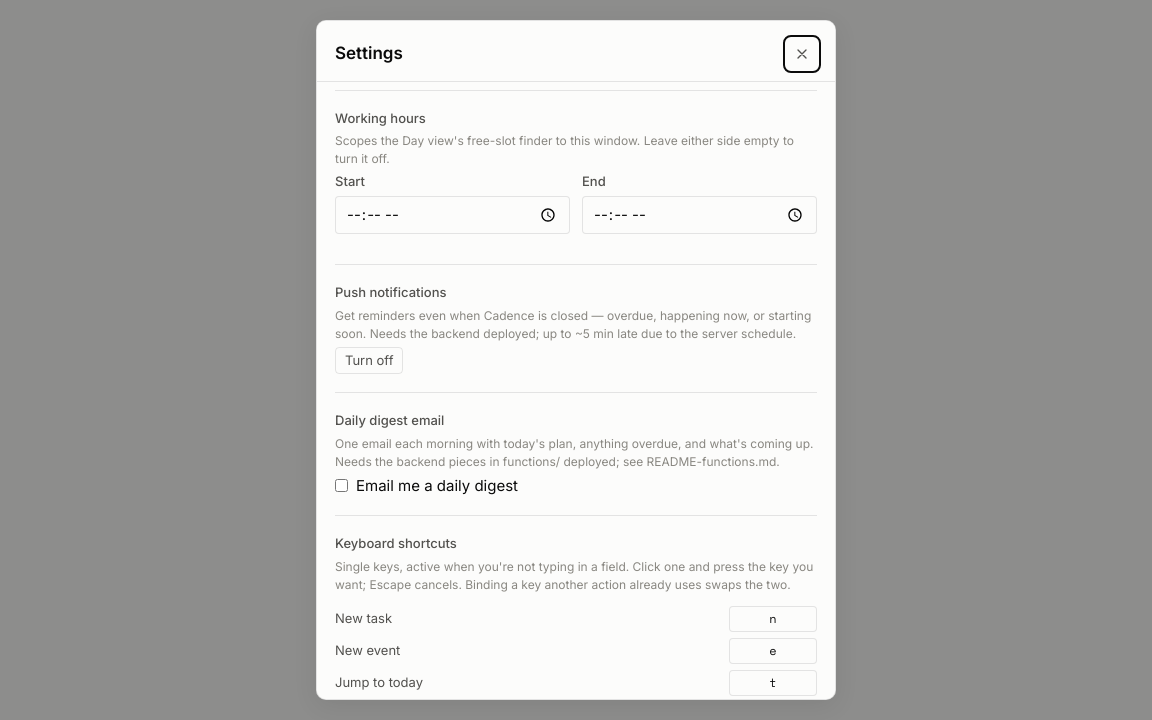
it: SettingsModal push flow — button, toast, and backend agree › subscribed → Turn off → turned-off toast + Turn on + backend off
(page scrolled)
Click the button "Turn off" at [369, 360], box [335,346,404,374]
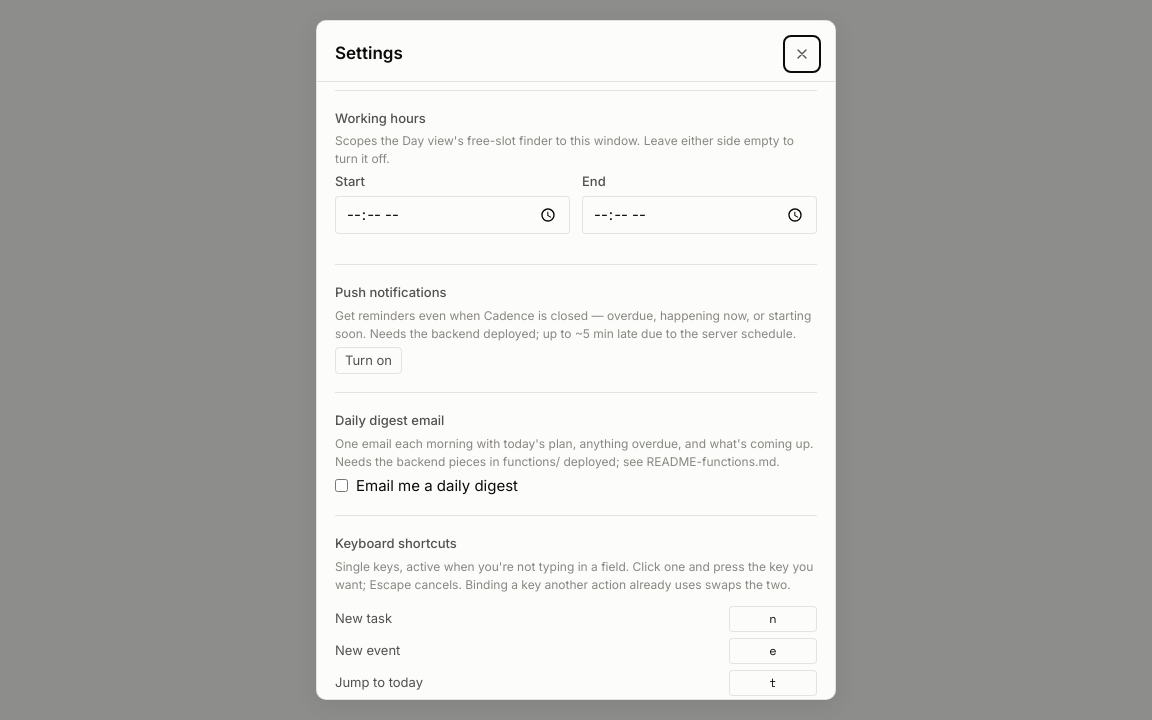
Now the button "Turn on" is shown, box [335,346,402,374]
